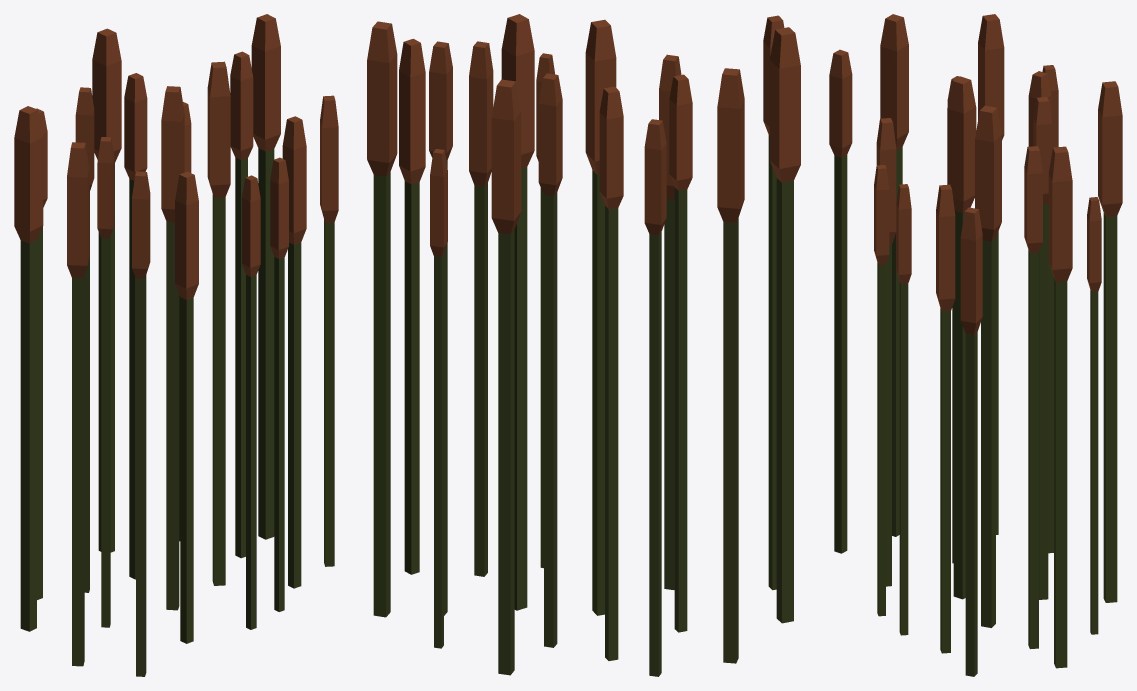
The model's file is Reed Multi.fbx.
The picture shows the model from 3 angles, left to right: view 1: azimuth 30°, elevation 25°; view 2: azimuth 150°, elevation 25°; view 3: azimuth 270°, elevation 25°; orthographic projection. The views are drawn at different scales.
Visible parts, largest first — view 1: Reed Multi; view 2: Reed Multi; view 3: Reed Multi.
Boxes of the visible parts, x1,y1,x2,y2 form: Reed Multi: (14, 14, 338, 676); Reed Multi: (367, 14, 800, 676); Reed Multi: (829, 14, 1122, 676).
Bounding box in the file's own units: 1.73 × 2.75 × 1.42.
